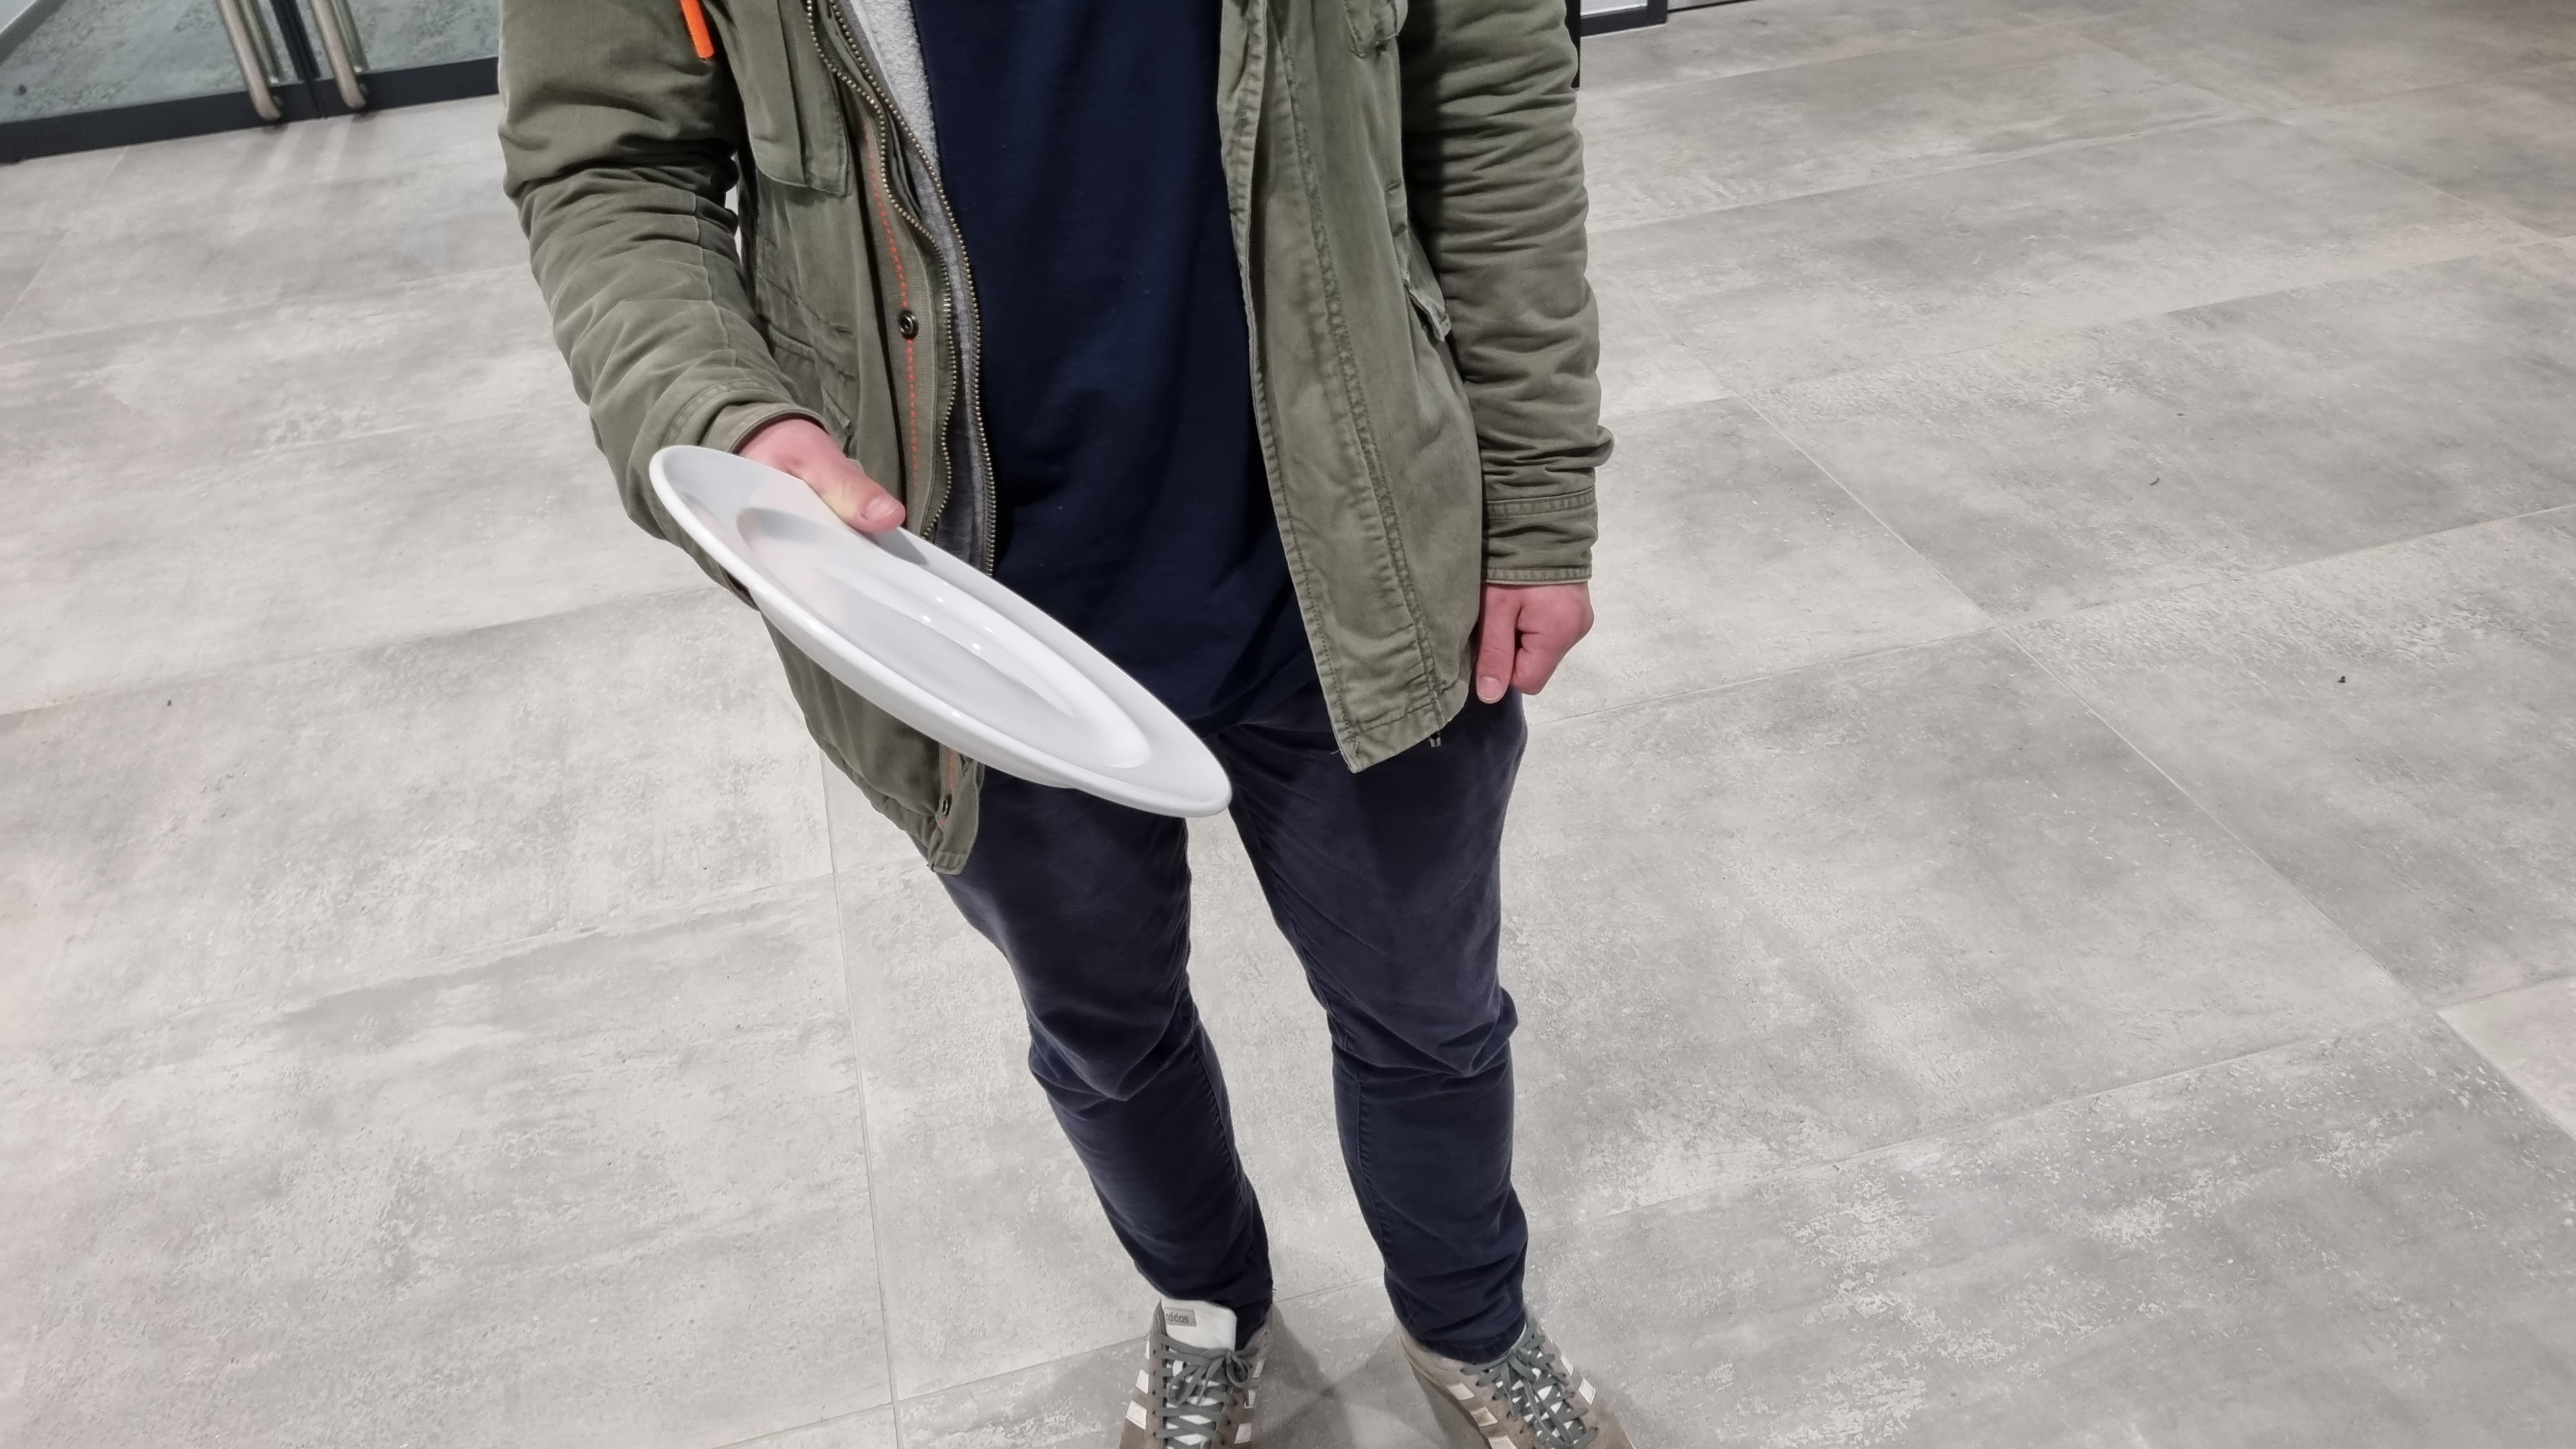plate: (630, 421, 1247, 826)
